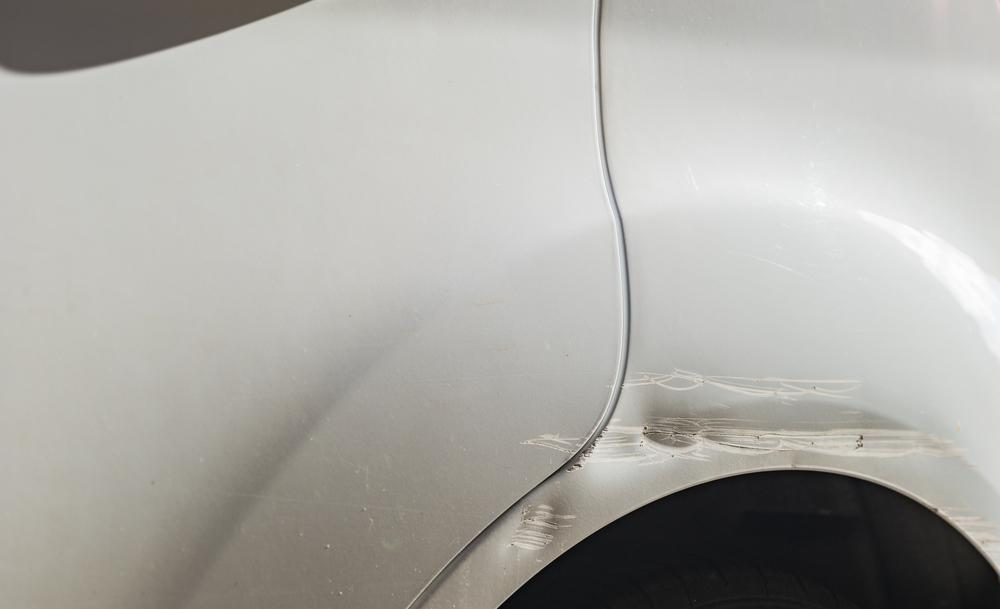dent: (584, 395, 934, 464), (513, 499, 568, 551)
scratch: (625, 366, 862, 401), (936, 505, 1000, 568), (515, 429, 590, 454)
